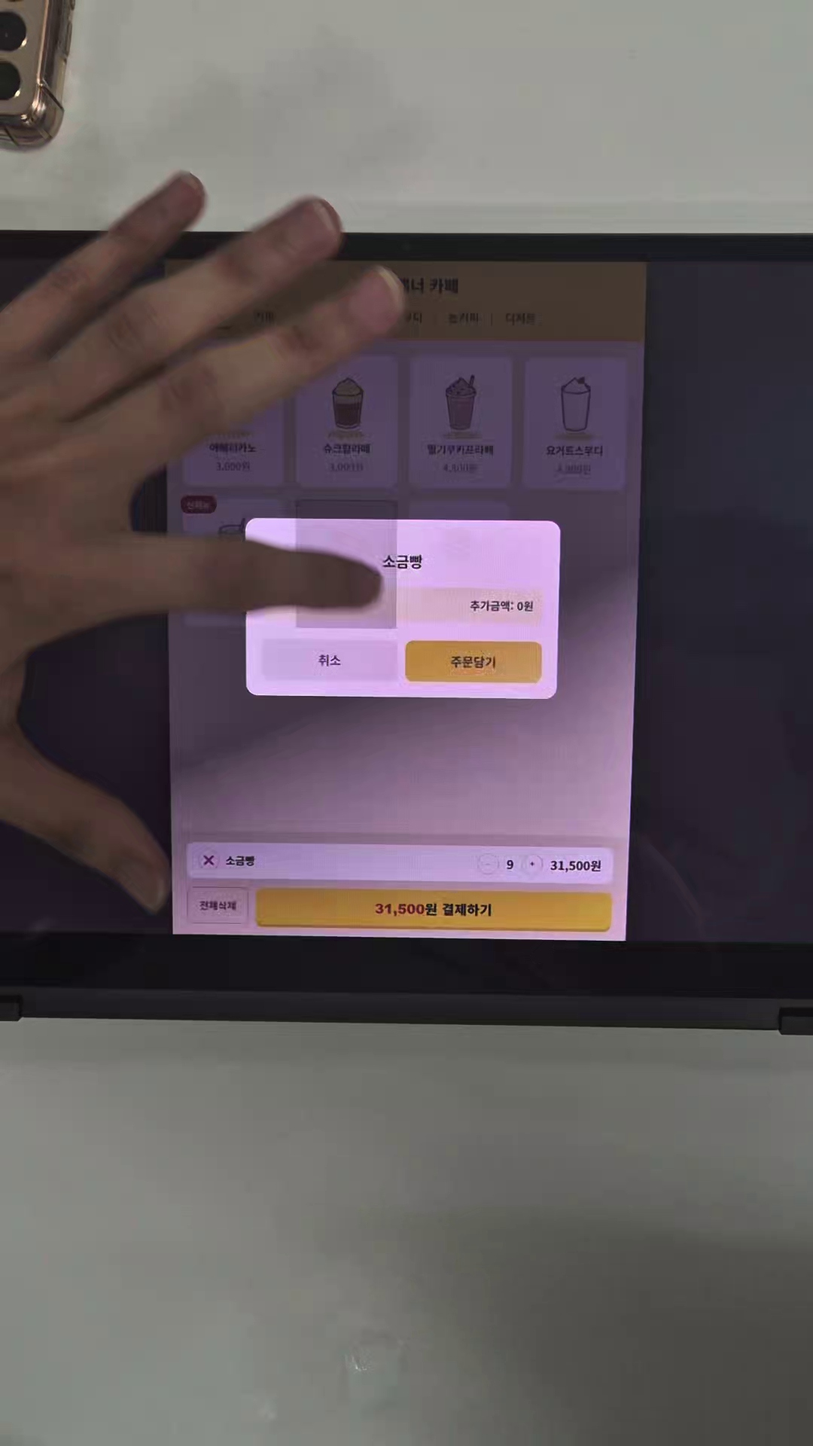action_button: (408, 639, 540, 684), (263, 639, 395, 681)
popup_modal: (247, 519, 561, 697)
